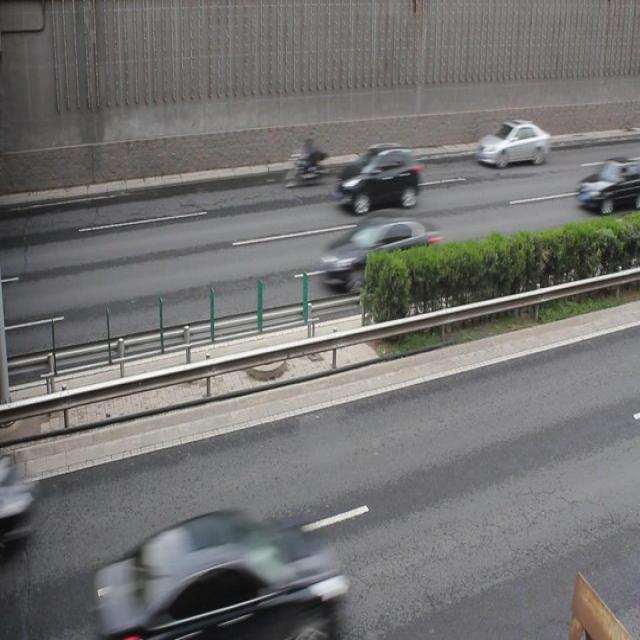car: (102, 505, 343, 640), (318, 209, 440, 295), (334, 139, 421, 211), (573, 156, 640, 214), (474, 116, 549, 166)
